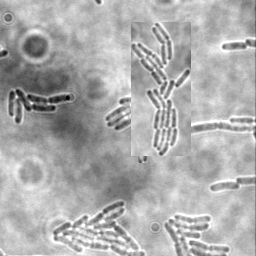Dividing: (192, 123, 255, 142), (138, 131, 148, 163), (221, 41, 248, 52)
Microcolony: (131, 22, 191, 156), (51, 200, 147, 255), (162, 212, 231, 255), (8, 89, 72, 126), (106, 96, 131, 132), (208, 182, 240, 193)
